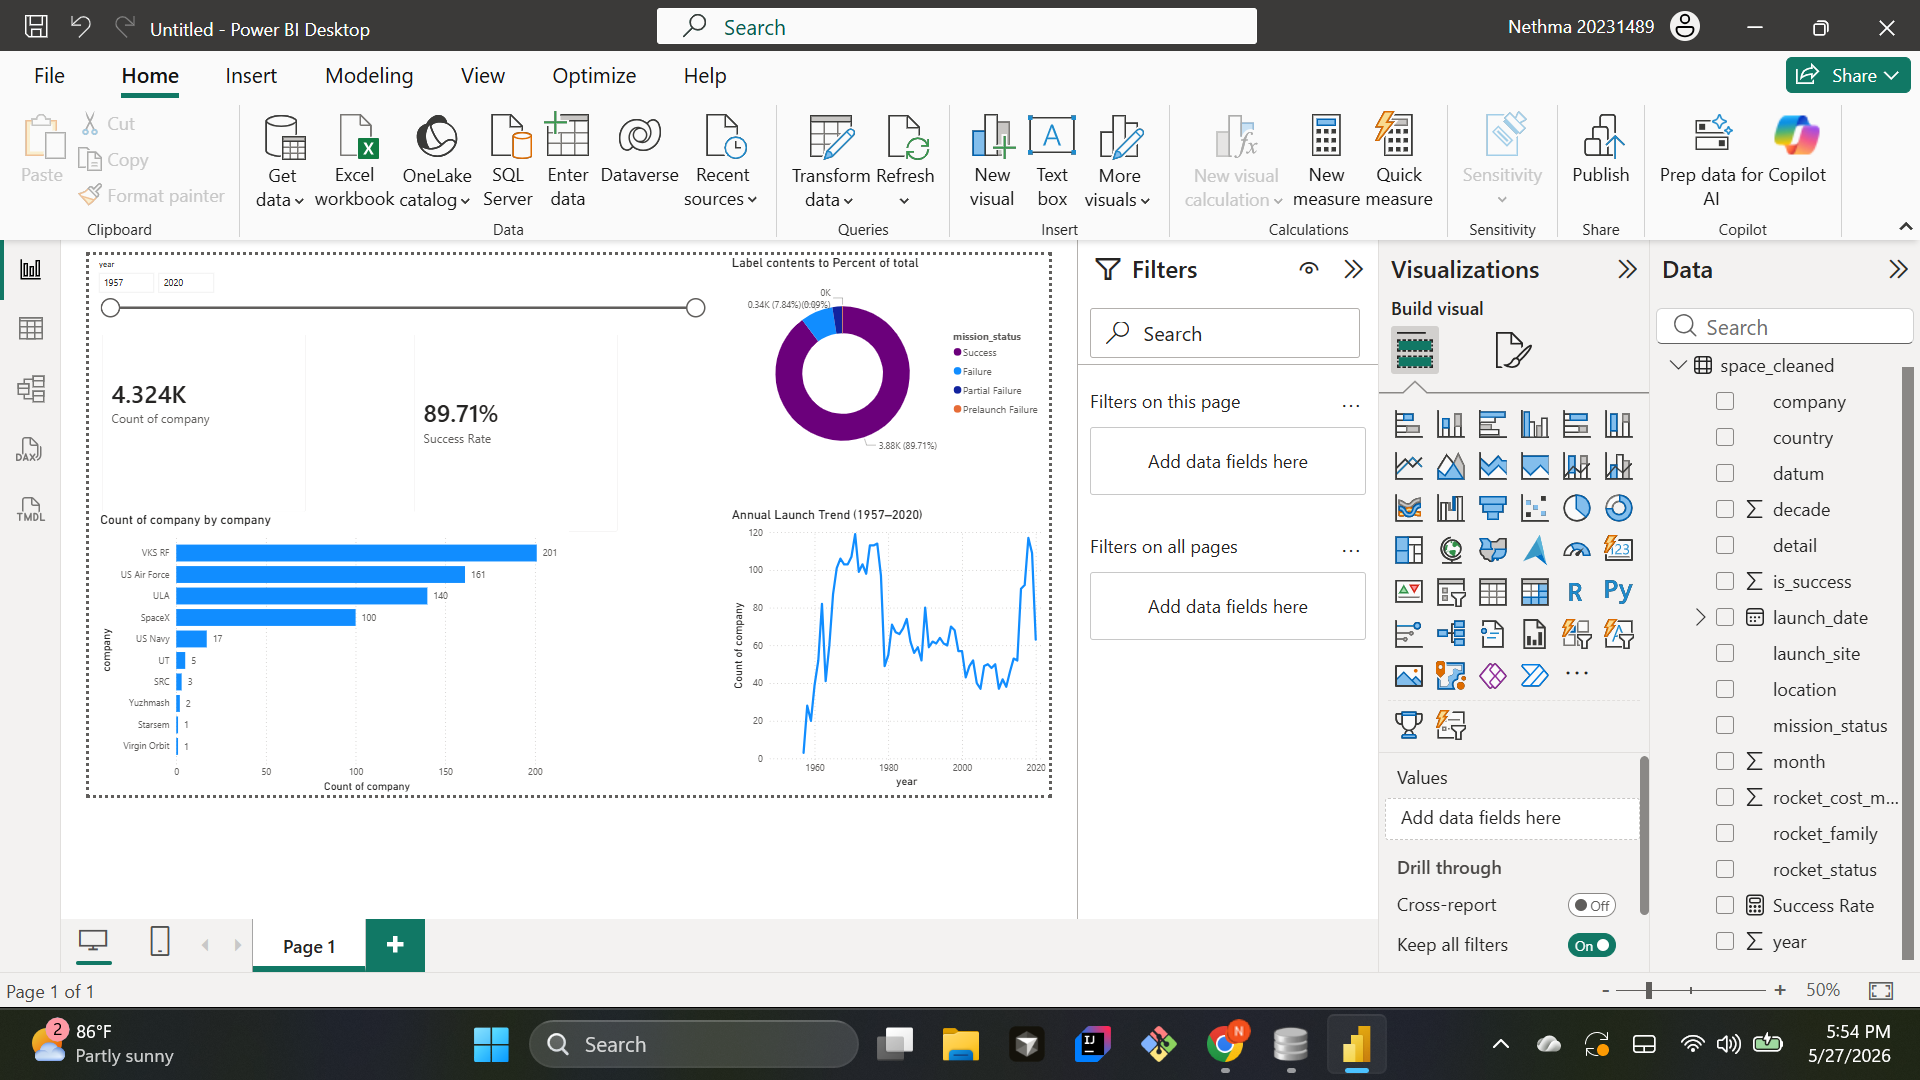

The page's visual inventory and layout, read from the dashboard file:
{"tool":"powerbi","page":{"name":"Page 1","canvas":[1280,720],"ordinal":0},"visuals":[{"type":"cardVisual","fields":{"Data":["CountNonNull(space_cleaned.company)"]},"box":[0,28,306,332],"z":0},{"type":"cardVisual","fields":{"Data":["space_cleaned.Success Rate"]},"box":[416,54,306,332],"z":1},{"type":"clusteredBarChart","fields":{"Category":["space_cleaned.company"],"Y":["CountNonNull(space_cleaned.company)"]},"box":[10,342,630,378],"z":2},{"type":"lineChart","title":"Annual Launch Trend (1957–2020)","fields":{"Y":["CountNonNull(space_cleaned.company)"],"Category":["space_cleaned.year"]},"box":[852,336,428,378],"z":3},{"type":"donutChart","title":"Label contents to Percent of total","fields":{"Category":["space_cleaned.mission_status"],"Y":["CountNonNull(space_cleaned.mission_status)"]},"box":[852,0,428,296],"z":4},{"type":"slicer","fields":{"Values":["space_cleaned.year"]},"box":[0,0,830,106],"z":5}]}

Visuals, with their boxes on the page's 1280x720 design canvas (x1, y1, x2, y2). These are canvas units, not pixel positions in the 1920x1080 screenshot, which may show the page scaled, cropped or inside an application window:
cardVisual - CountNonNull(space_cleaned.company): BBox(0, 28, 306, 360)
cardVisual - space_cleaned.Success Rate: BBox(416, 54, 722, 386)
clusteredBarChart - space_cleaned.company x CountNonNull(space_cleaned.company): BBox(10, 342, 640, 720)
"Annual Launch Trend (1957–2020)" lineChart: BBox(852, 336, 1280, 714)
"Label contents to Percent of total" donutChart: BBox(852, 0, 1280, 296)
slicer - space_cleaned.year: BBox(0, 0, 830, 106)
